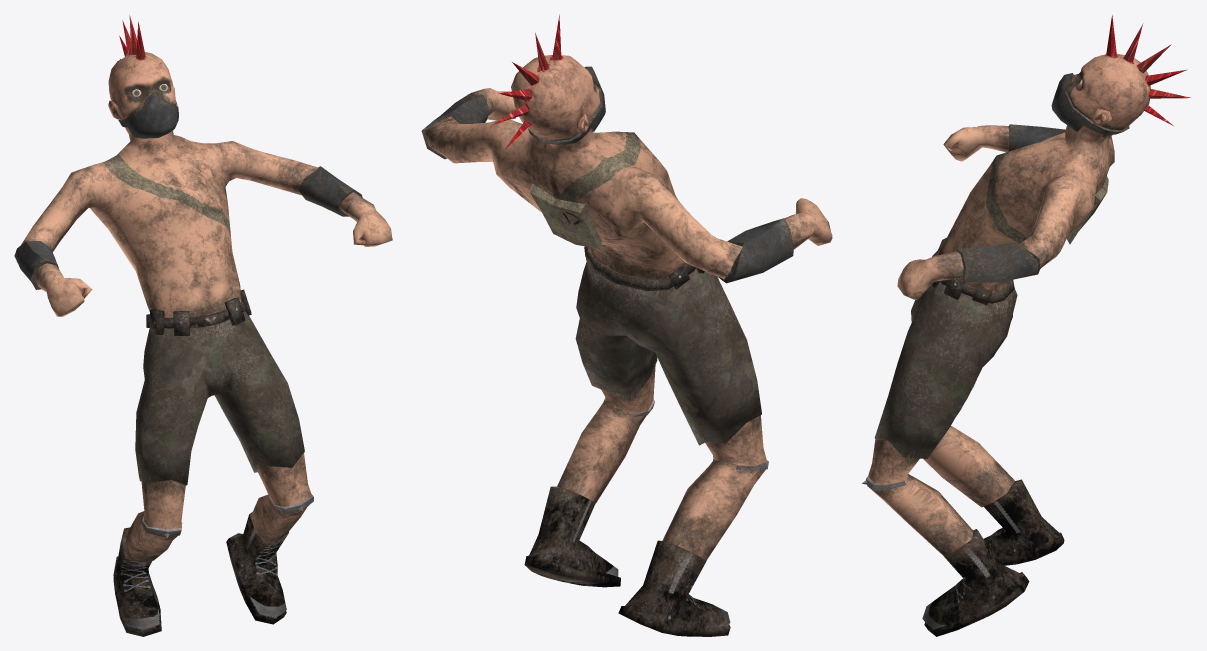
The model's file is Anim_morir_1_npc2.0016.obj.
3 views of the same model, side by side, from view 1: azimuth 30°, elevation 25°; view 2: azimuth 150°, elevation 25°; view 3: azimuth 270°, elevation 25° (orthographic). The views are drawn at different scales.
Visible parts, largest first — view 1: polySurface1; view 2: polySurface1; view 3: polySurface1.
Part boxes in pixels (bbox=[...]): polySurface1: bbox=[14, 15, 392, 636]; polySurface1: bbox=[421, 14, 832, 636]; polySurface1: bbox=[862, 15, 1190, 636].
Bounding box in the file's own units: 5.43 × 9.08 × 4.62.
Materials: 2 (2 with a texture image).
